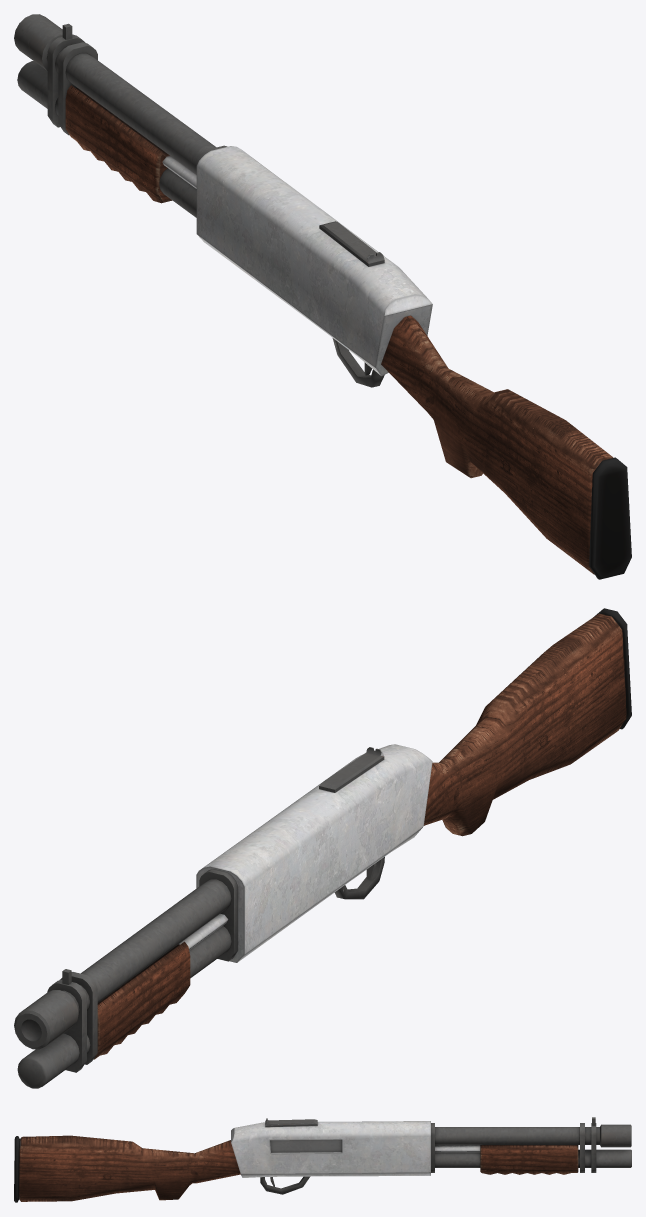
Rendered from shotgun.fbx.
3 views of the same model, one above another, from view 1: azimuth 30°, elevation 25°; view 2: azimuth 150°, elevation 25°; view 3: azimuth 270°, elevation 25° (orthographic). The views are drawn at different scales.
Parts seen in each view (by area): view 1: Cube, Cube.001; view 2: Cube, Cube.001; view 3: Cube, Cube.001.
Boxes of the visible parts, <box> form: Cube: <box>14,14,631,579</box>; Cube.001: <box>65,85,196,203</box>; Cube: <box>14,608,631,1088</box>; Cube.001: <box>93,913,228,1059</box>; Cube: <box>14,1117,631,1202</box>; Cube.001: <box>435,1145,578,1174</box>.
Size of the model in its own units: 39.14 by 118 by 817.
